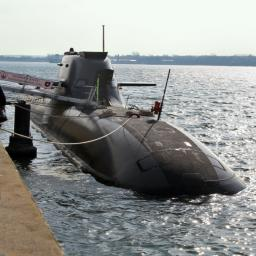submarine: (2, 25, 256, 192)
